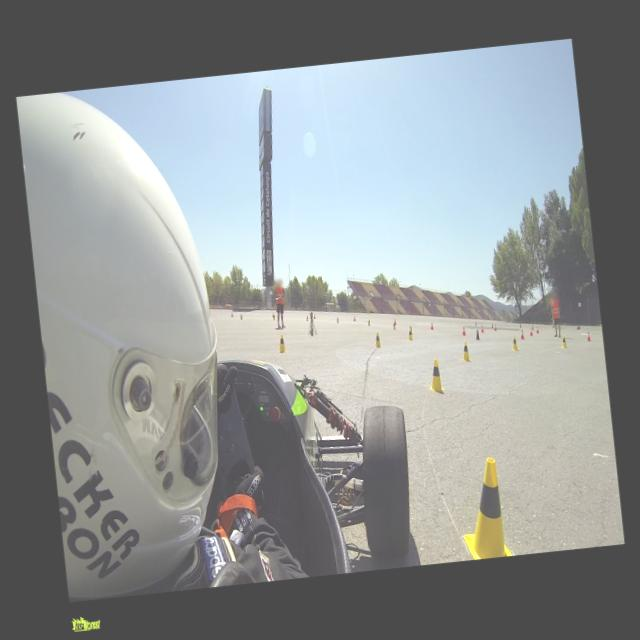blue_cone: (475, 328, 479, 339), (532, 324, 534, 330), (474, 320, 476, 325), (491, 323, 493, 328), (520, 322, 520, 327)
orange_cone: (520, 329, 524, 340), (586, 331, 590, 341), (462, 326, 465, 336), (481, 324, 484, 332), (352, 314, 355, 322), (430, 322, 433, 329), (530, 327, 532, 336), (536, 326, 538, 334), (494, 324, 496, 331), (394, 318, 396, 324)
yellow_cone: (453, 454, 520, 560), (426, 358, 444, 395), (274, 332, 287, 354), (460, 340, 470, 362), (372, 330, 382, 350), (511, 335, 518, 352), (560, 334, 566, 348), (408, 328, 412, 340), (408, 324, 412, 334), (270, 312, 274, 320), (366, 318, 370, 326), (335, 315, 339, 323), (392, 322, 396, 329), (304, 314, 308, 321), (239, 313, 242, 320)
